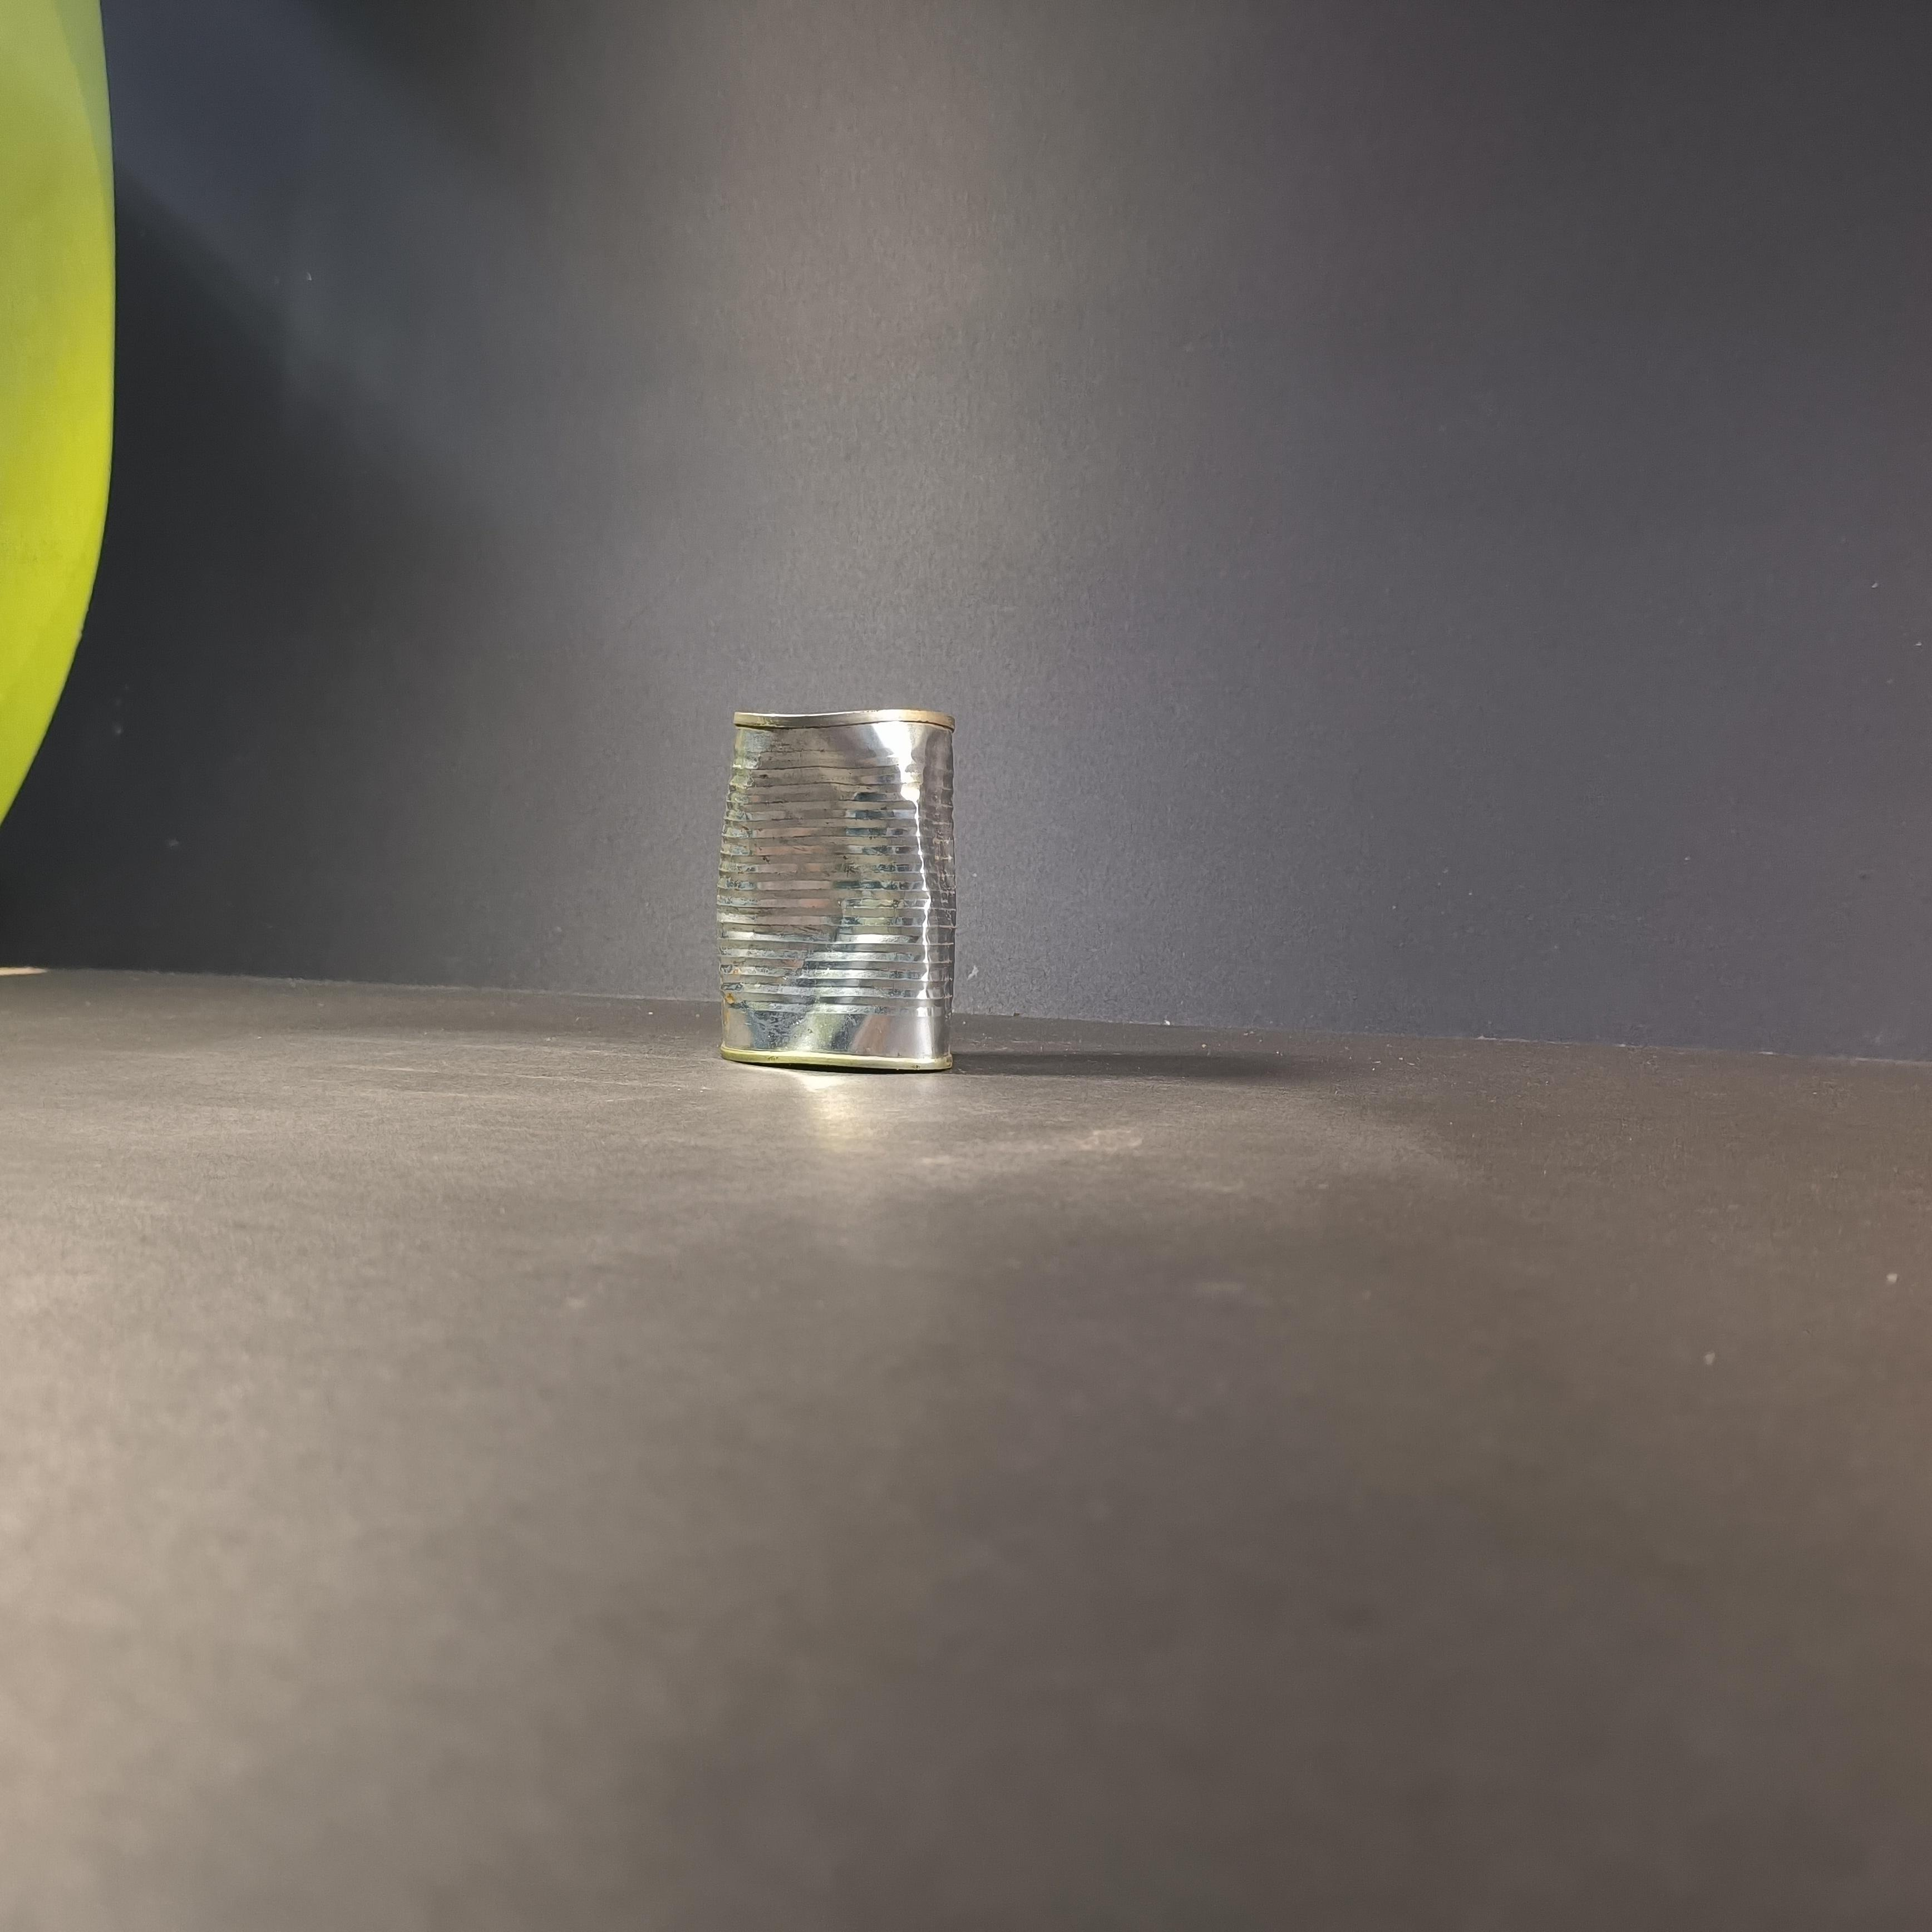Dented: (701, 681, 968, 1074)
